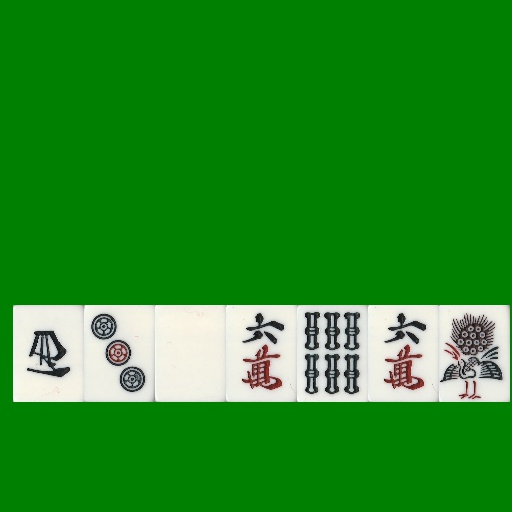1s: (439, 305, 510, 402)
3p: (84, 305, 155, 402)
6m: (226, 305, 297, 402), (368, 305, 439, 402)
6s: (297, 305, 368, 402)
west: (13, 305, 84, 402)
white: (155, 305, 226, 402)
